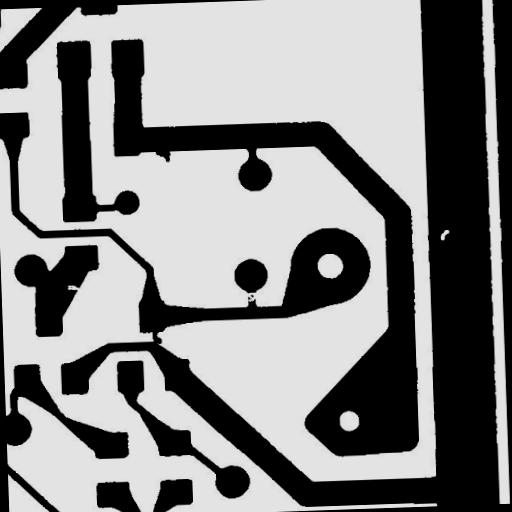mousebite: (59, 276, 87, 298)
open: (236, 284, 266, 308)
pin-hole: (432, 222, 457, 248)
short: (144, 316, 168, 351)
spur: (148, 139, 178, 169)
